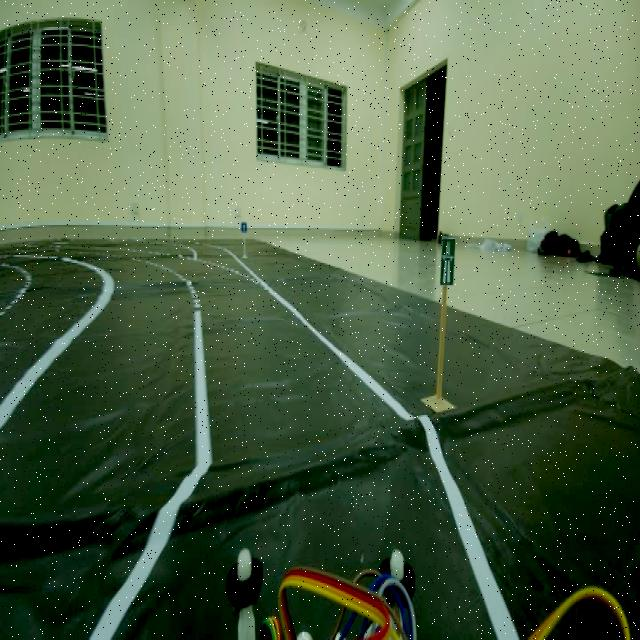highway_entry: (430, 222, 464, 299)
